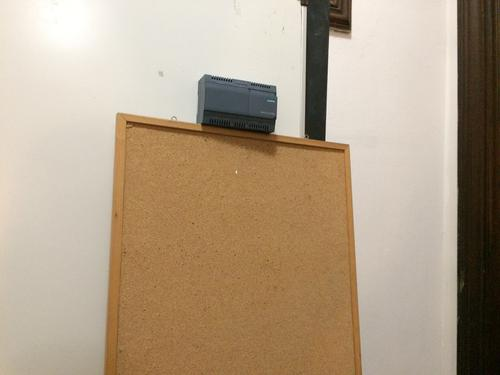iot2000: (195, 73, 278, 134)
